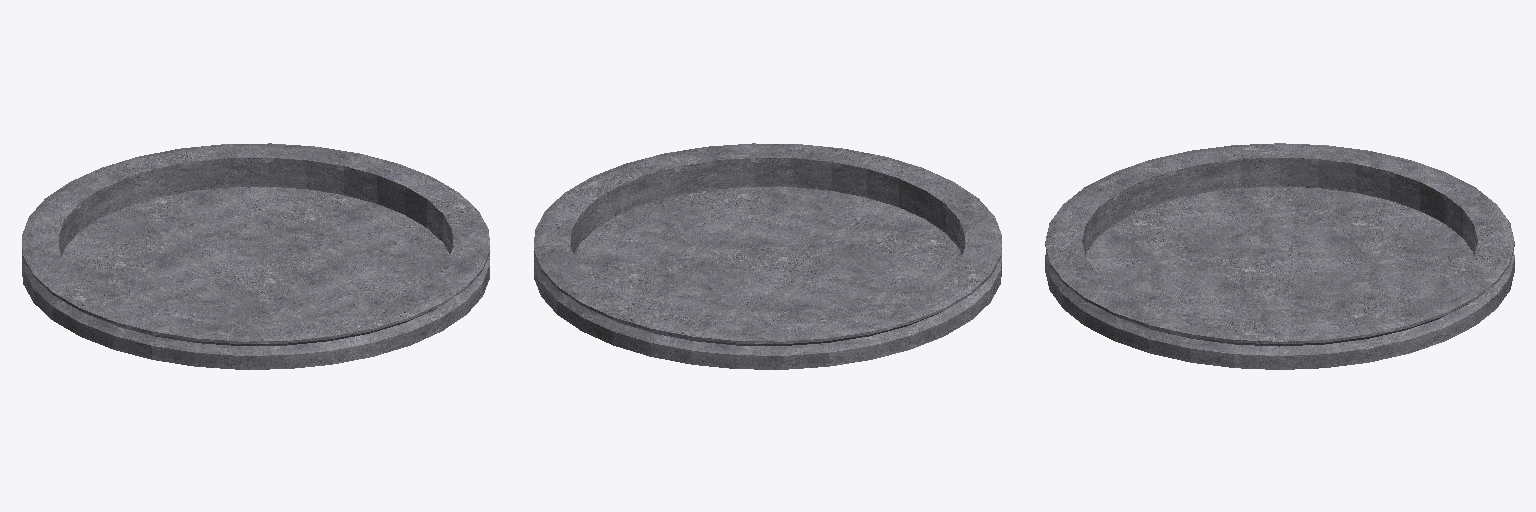
3 views of the same model, side by side, from view 1: azimuth 30°, elevation 25°; view 2: azimuth 150°, elevation 25°; view 3: azimuth 270°, elevation 25° (orthographic).
Parts seen in each view (by area): view 1: Pool; view 2: Pool; view 3: Pool.
Boxes of the visible parts, box(x1,y1,x2,y2) form: Pool: box(22, 143, 489, 369); Pool: box(534, 143, 1001, 369); Pool: box(1045, 143, 1514, 369).
Size of the model in its own units: 32.11 by 2.24 by 32.11.
Materials: 1 (1 with a texture image).